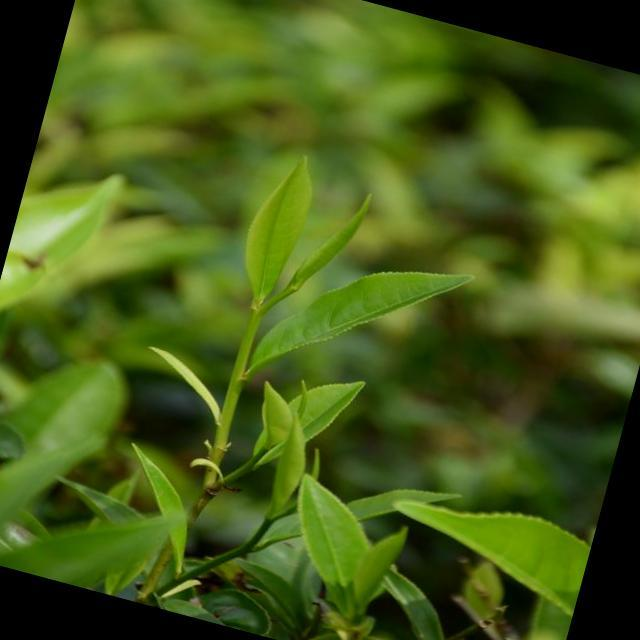Stem: (248, 308, 265, 324)
